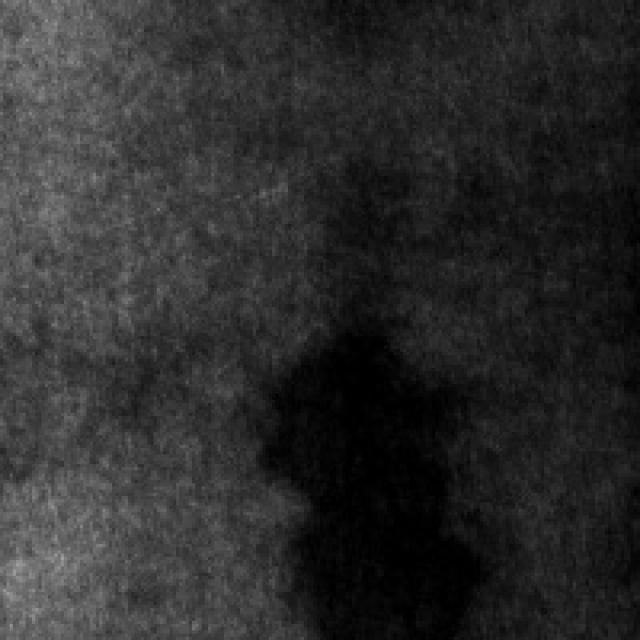patches: (253, 304, 496, 637)
